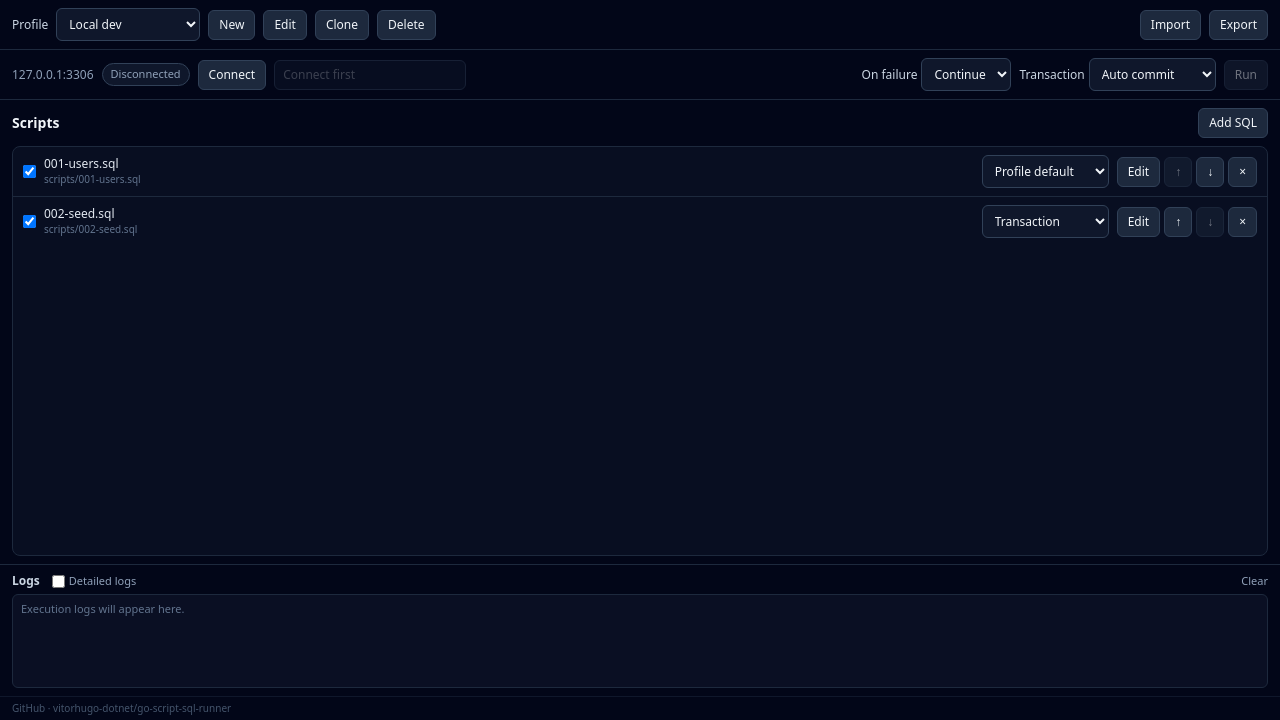
it: main runner workspace › keeps confirmation open and shows an error when deletion fails
Expected: the text "001-users.sql" is shown, x1=44 y1=155 x2=118 y2=172
Step 1. Click the button "Delete" → (406, 24), box x1=377 y1=10 x2=436 y2=40
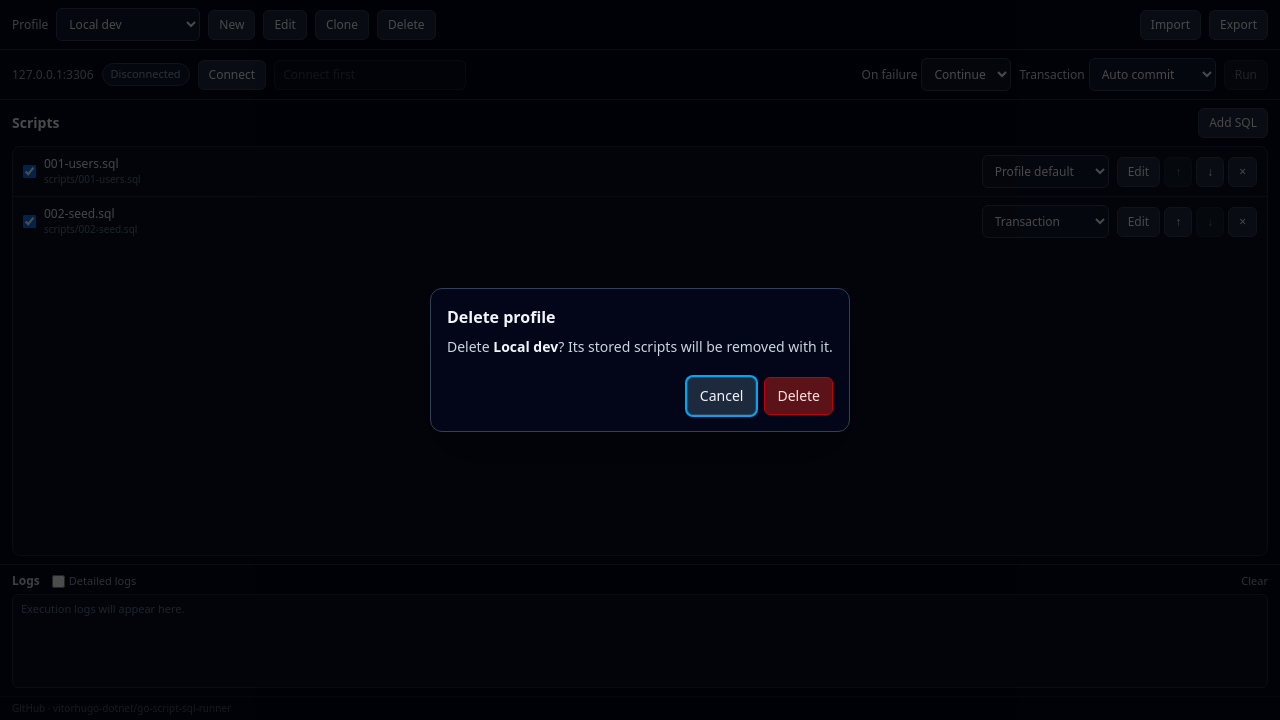
Step 2. Click the button "Delete" → (799, 396), box x1=764 y1=377 x2=833 y2=415
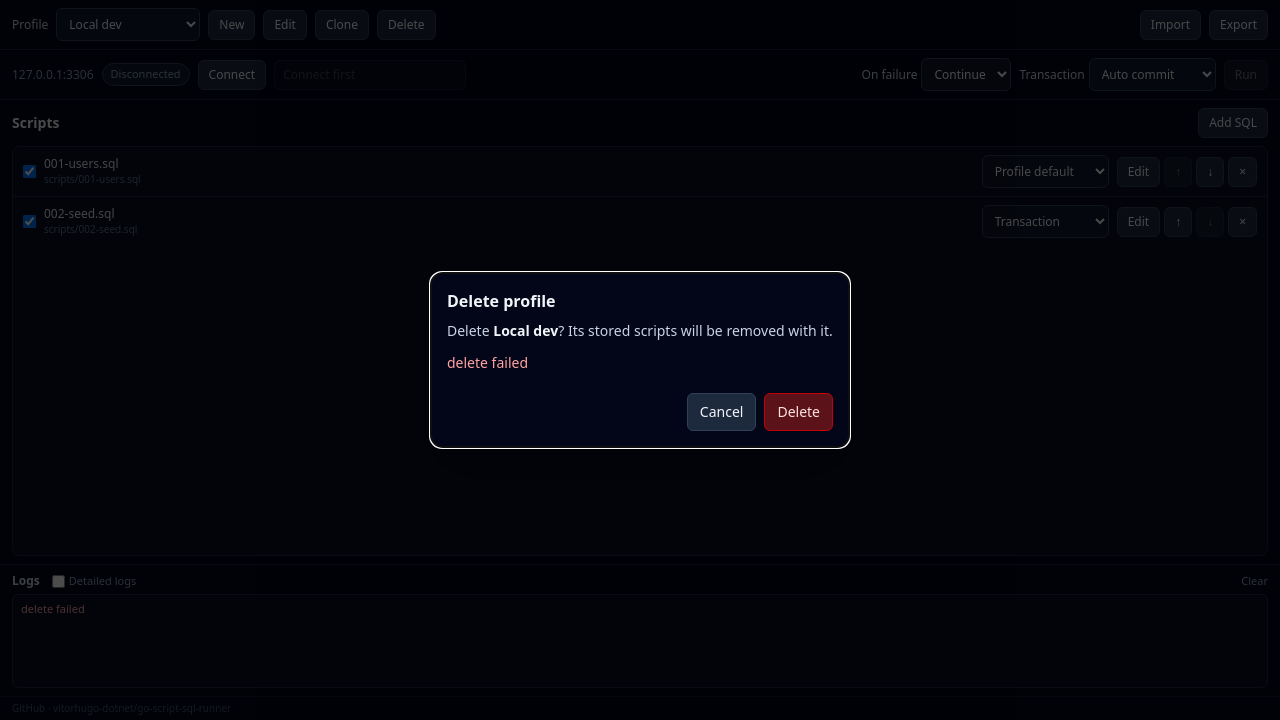
Expected: the dropdown labelled "Profile" shows "Local dev", x1=56 y1=8 x2=200 y2=41
Expected: the dialog is shown, x1=430 y1=272 x2=850 y2=448
Expected: the message reads "delete failed", x1=447 y1=353 x2=528 y2=372
